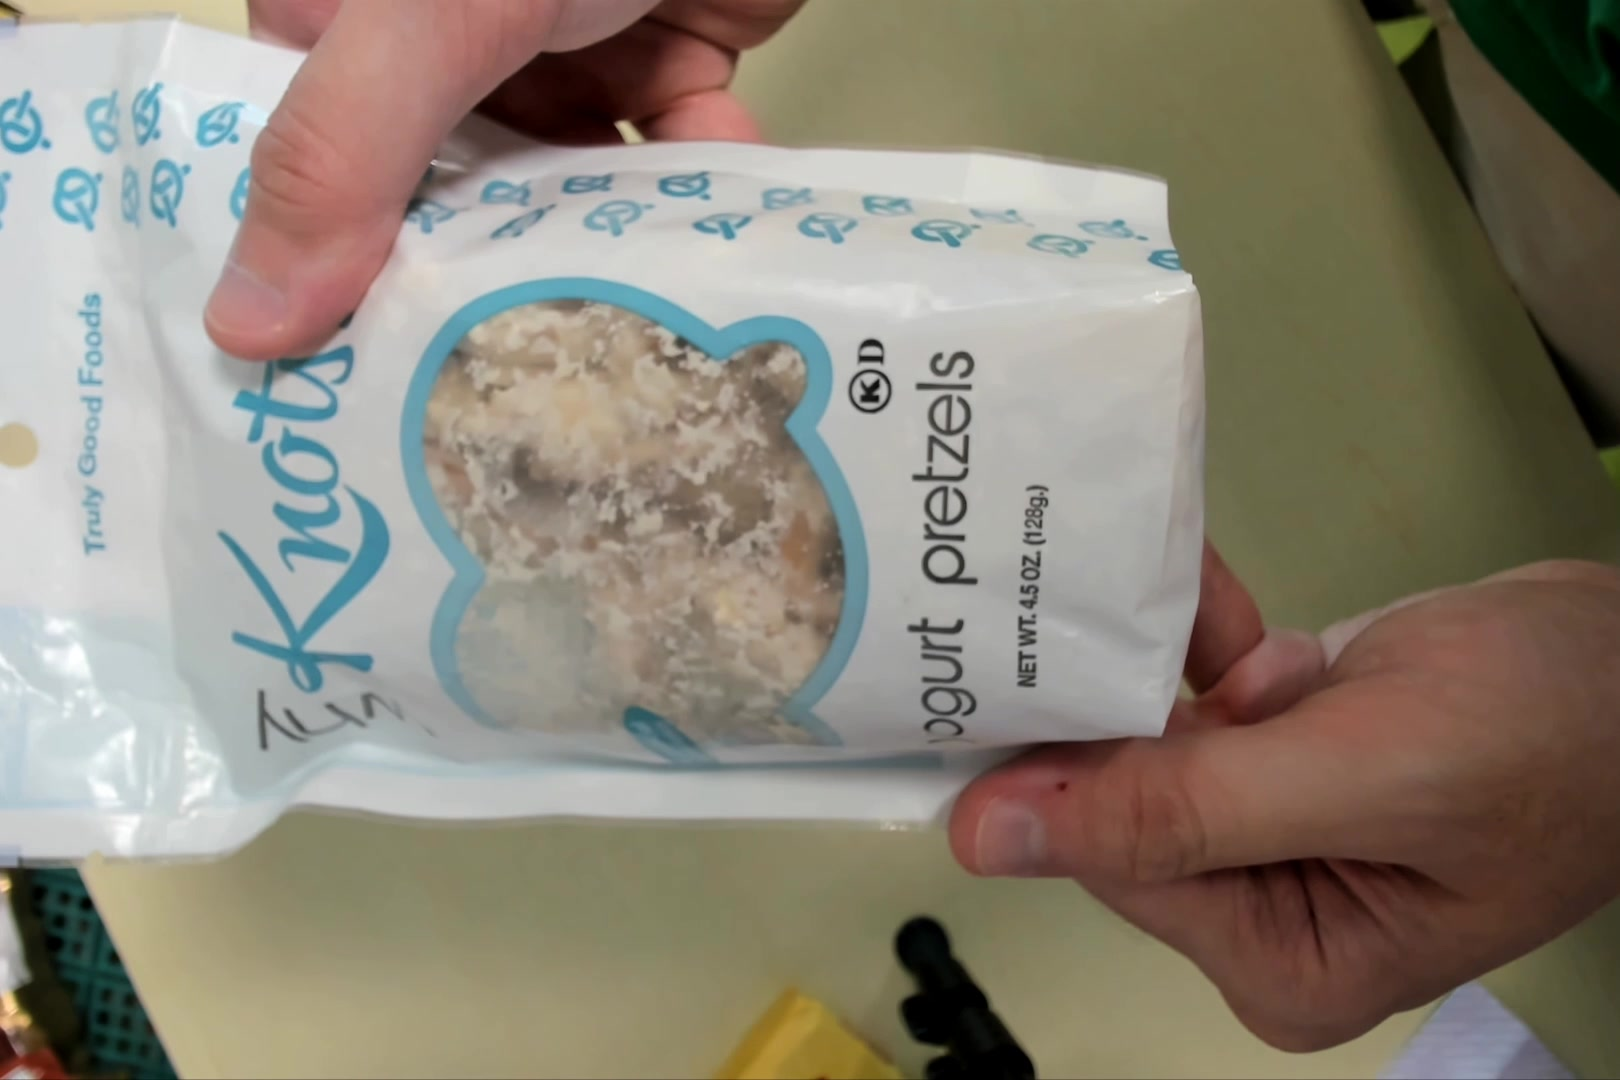SweetsChocolatesOthers_100-199g_NonHalal_NonHealthy: (2, 28, 1213, 835)
